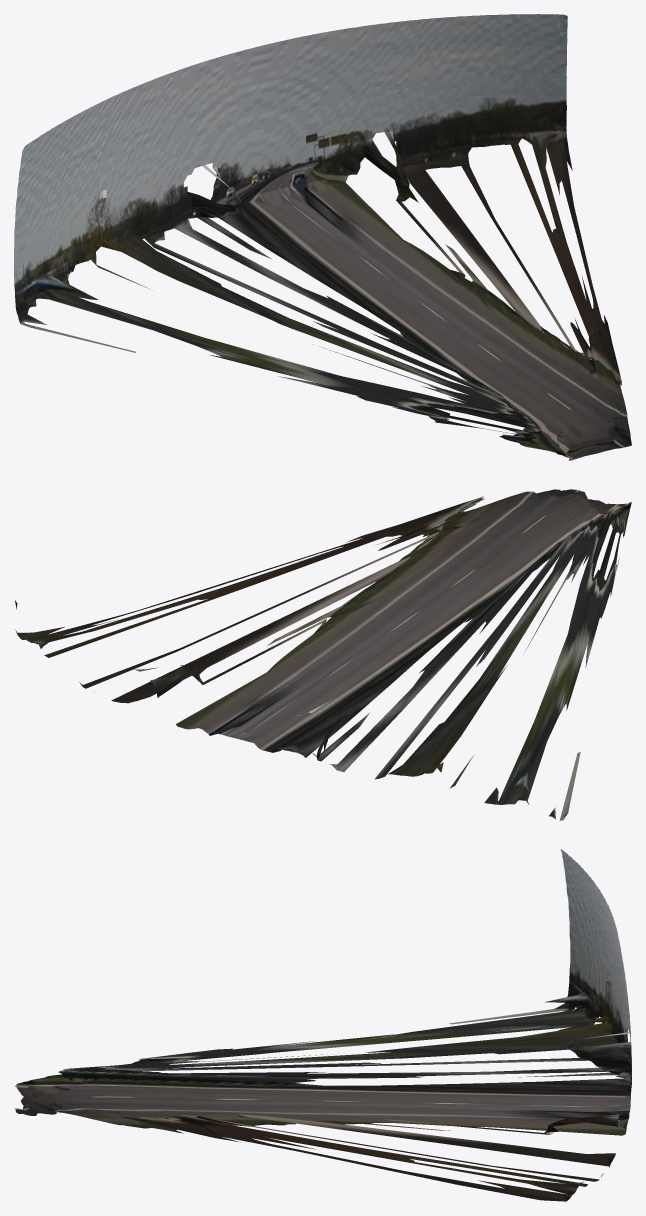
3 views of the same model, one above another, from view 1: azimuth 30°, elevation 25°; view 2: azimuth 150°, elevation 25°; view 3: azimuth 270°, elevation 25° (orthographic). The views are drawn at different scales.
Parts seen in each view (by area): view 1: defaultobject; view 2: defaultobject; view 3: defaultobject.
Part boxes in pixels (x1,y1,x2,y2): defaultobject: (14,14,631,460); defaultobject: (15,489,631,820); defaultobject: (14,849,631,1201).
Bounding box in the file's own units: 41.14 × 13.58 × 44.73.
1 material, 1 textured.
